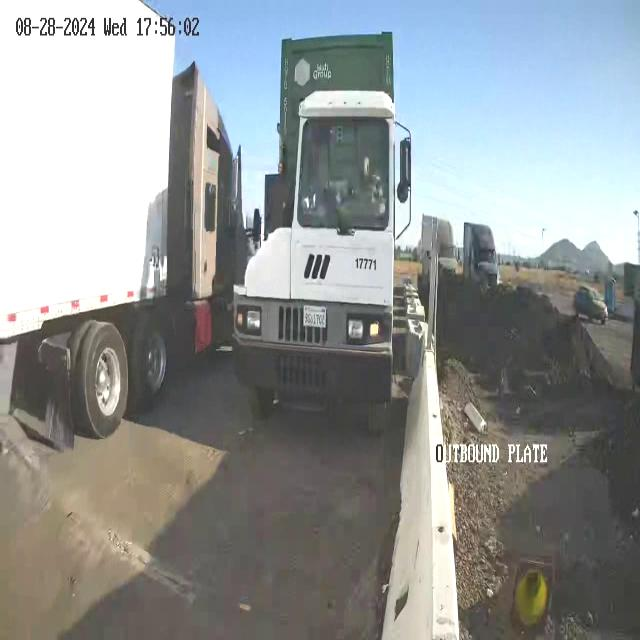CONTAINER: (0, 8, 175, 330), (283, 29, 395, 308)
